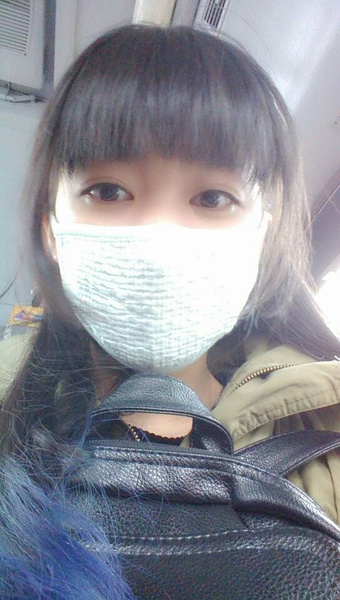face_mask: (56, 96, 256, 374)
